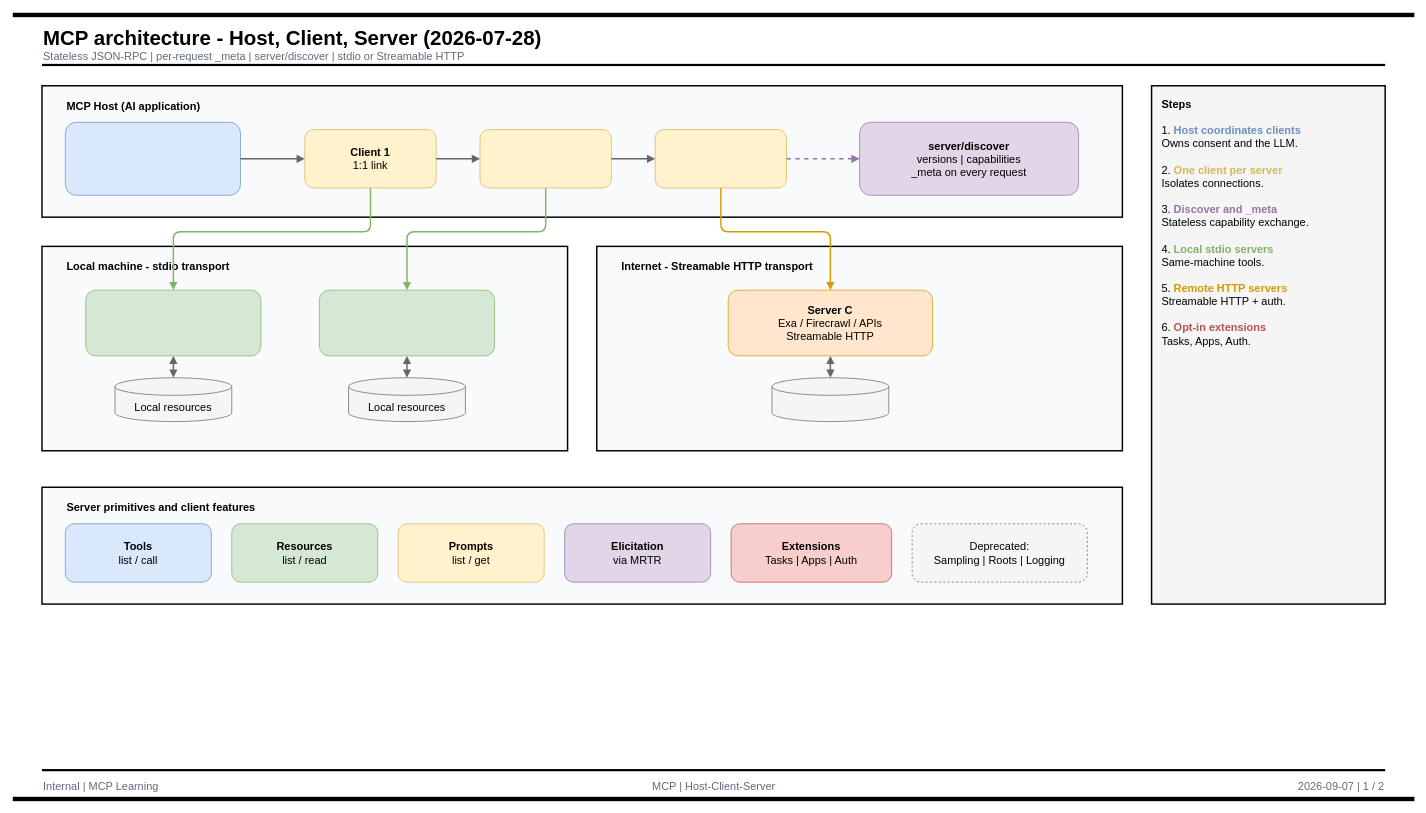
Image size: 1426x813. Some labels were removed from this diagram. The centre of each missing label's shape, as x and y in pixels:
Client 2 1:1 link: [545,158]
Client 3 1:1 link: [720,158]
Host Consent | LLM orchestration Creates clients: [153,158]
Remote APIs / data: [830,399]
Server A Filesystem / Draw.io stdio: [173,322]
Server B Calendar / Tasks stdio: [407,322]
